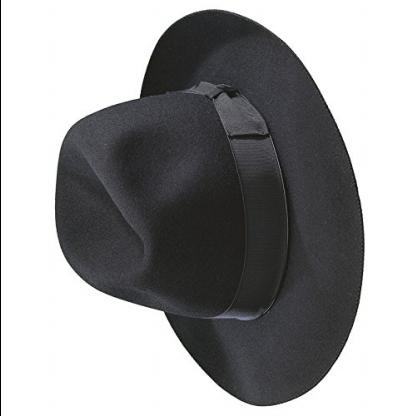hat: (51, 8, 368, 410)
